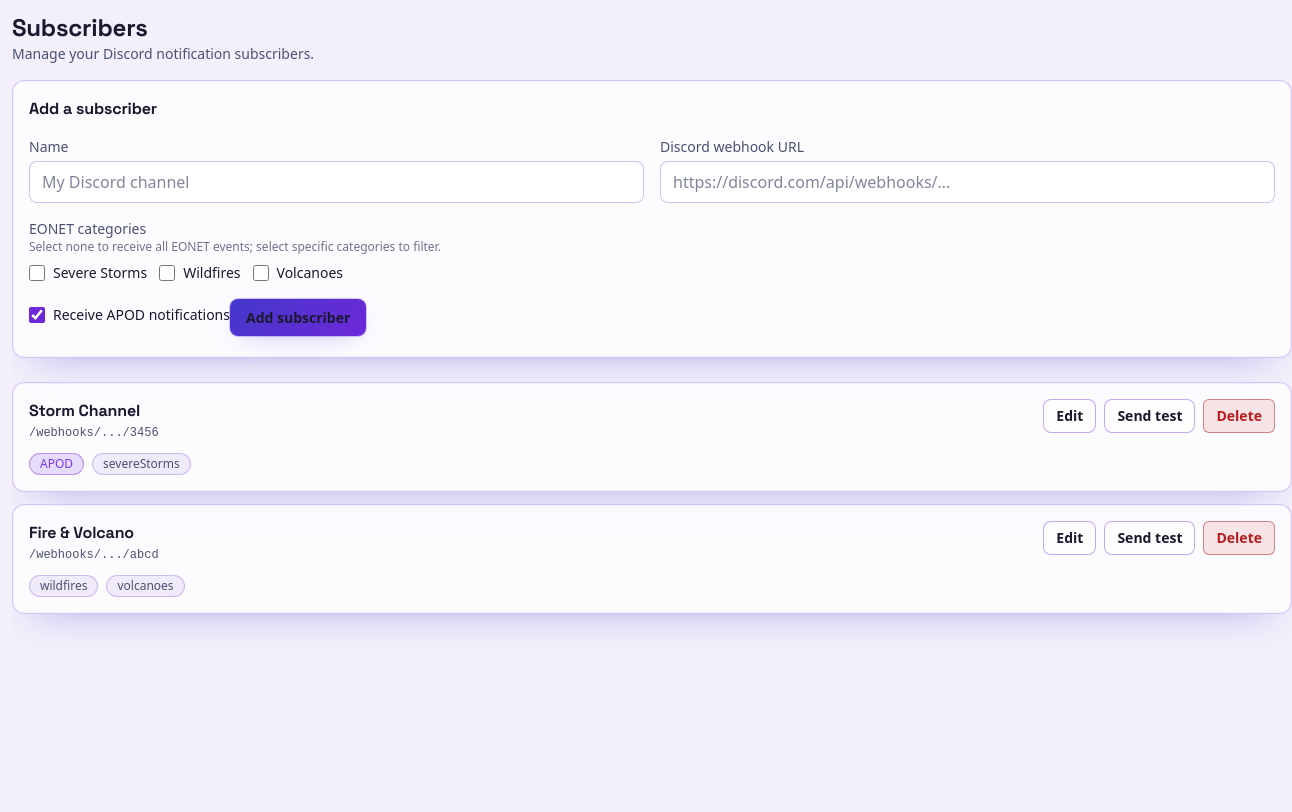
Subscribers — VAL-FE-SUB-007 send test happy path › POSTs test-notification and shows a success indicator
What coordinates should you click on to do the following:
click the button with test id "subscriber-send-test-btn" in the row of "/webhooks/.../3456"
I would click on:
 (1150, 416)
Its box is [1104, 399, 1196, 433].
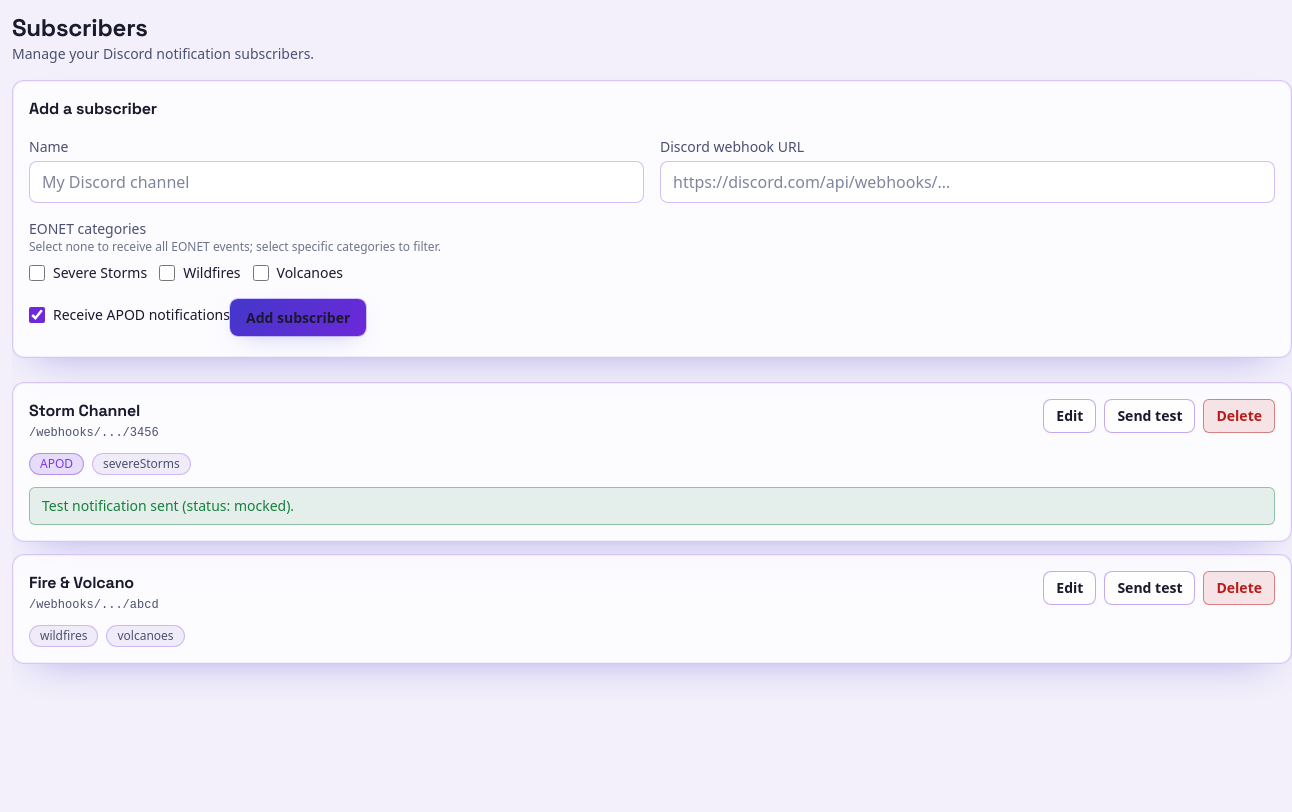
Expected: the text with test id "subscriber-test-success" shows "mocked", [234, 496, 286, 515]
